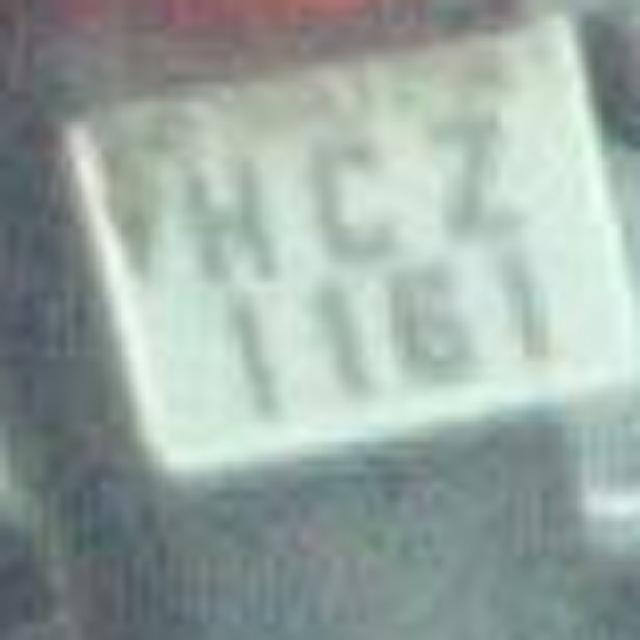1: (468, 232, 564, 372), (295, 268, 380, 412), (212, 288, 296, 424)
B: (372, 240, 492, 405)
C: (288, 124, 400, 264)
N: (172, 144, 288, 288)
Z: (400, 104, 520, 224)
